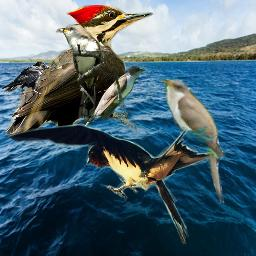Crow: (1, 61, 51, 97)
Cuckoo: (157, 75, 227, 205), (75, 66, 145, 140), (56, 24, 103, 122)
Swallow: (4, 113, 255, 244)
Woodpecker: (6, 5, 157, 137)
